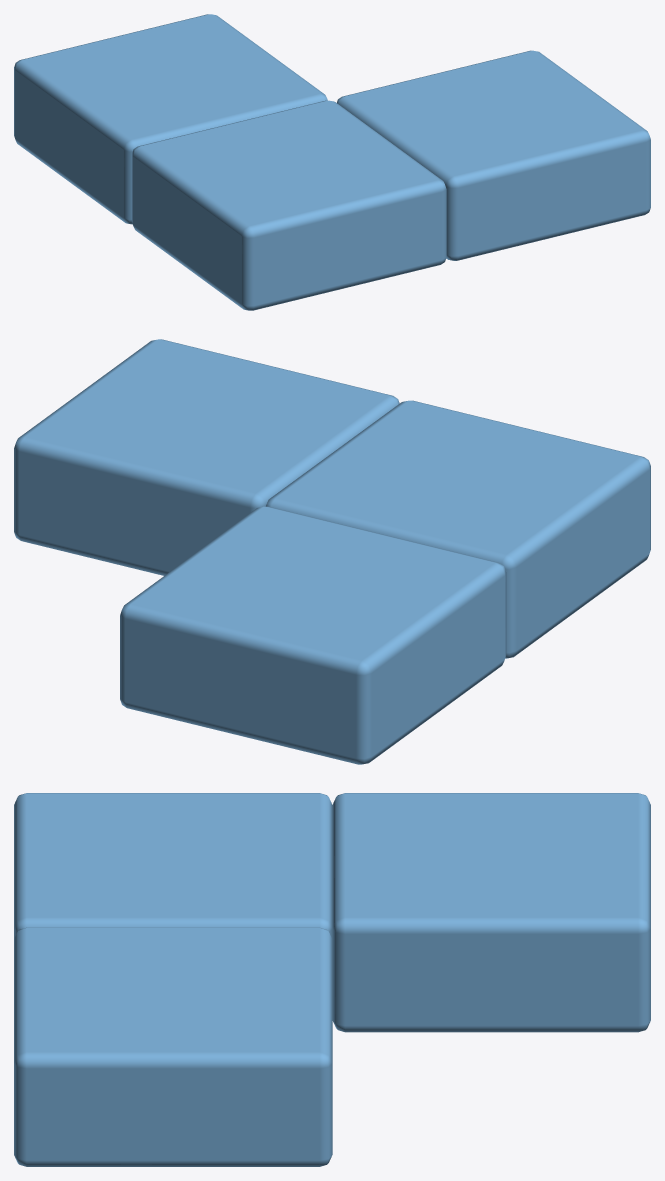
Rendered from cube_with_river.03.glb.
The picture shows the model from 3 angles, top to bottom: view 1: azimuth 30°, elevation 25°; view 2: azimuth 150°, elevation 25°; view 3: azimuth 270°, elevation 25°; orthographic projection. The views are drawn at different scales.
Parts seen in each view (by area): view 1: Cube.243; view 2: Cube.243; view 3: Cube.243.
Part boxes in pixels (x1,y1,x2,y2): Cube.243: [14, 14, 650, 310]; Cube.243: [14, 339, 650, 764]; Cube.243: [14, 793, 650, 1166].
Bounding box in the file's own units: 2 × 0.3972 × 2.
Materials: 1 (1 with a texture image).
